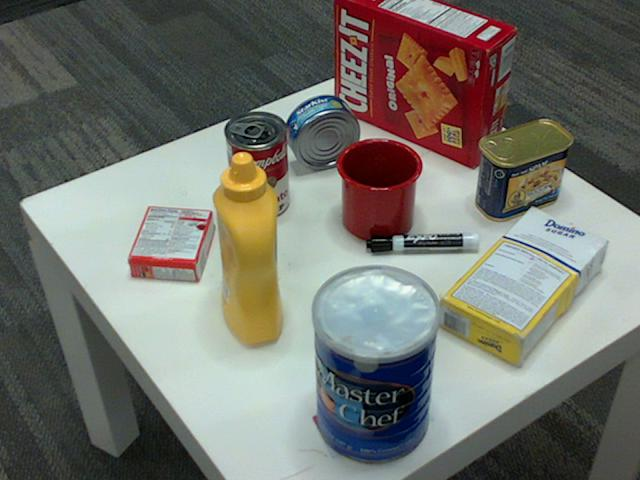cracker_box: (334, 0, 516, 167)
gelatin_box: (124, 203, 211, 279)
large_marker: (367, 235, 480, 254)
master_chef_can: (312, 267, 441, 467)
mug: (334, 136, 421, 241)
mustard_bottle: (210, 152, 281, 344)
potted_meat_can: (475, 121, 571, 222)
sugar_box: (436, 206, 606, 368)
tomato_soup_can: (224, 111, 288, 220)
tuna_fish_can: (283, 94, 359, 169)
